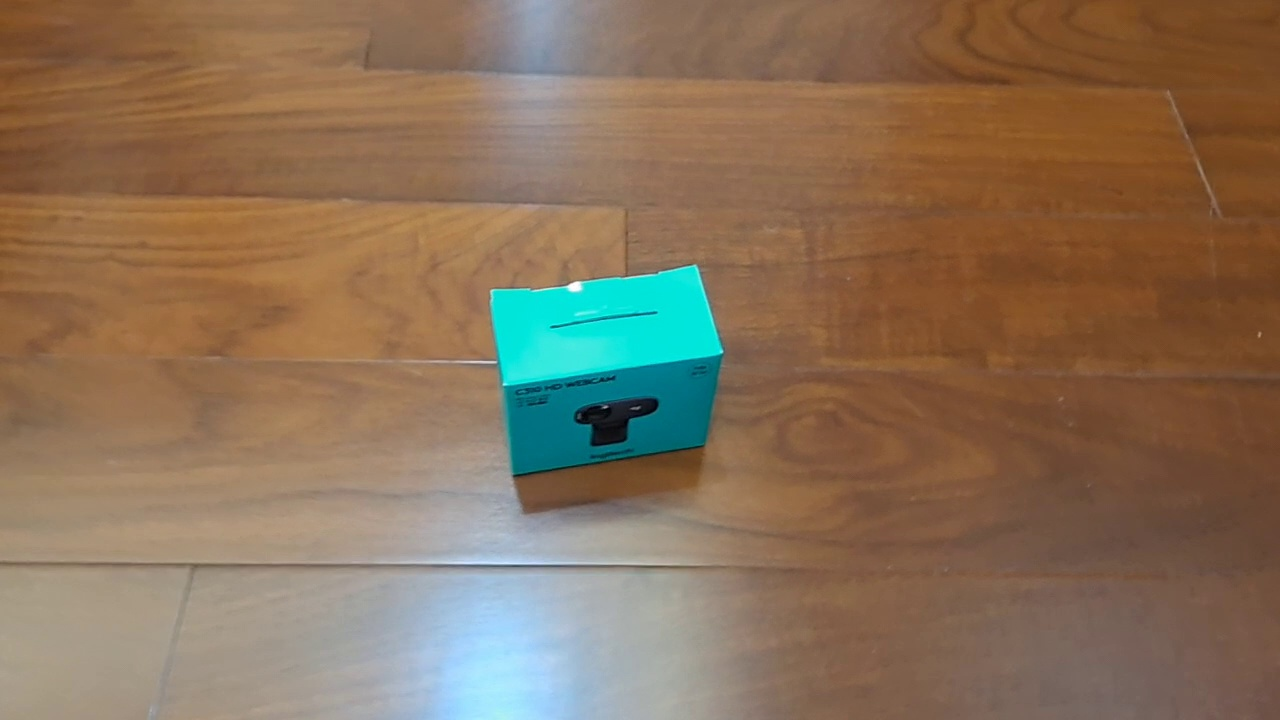webcam: (488, 264, 725, 478)
